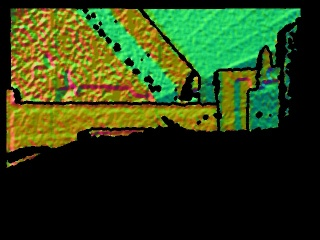station: (55, 69, 77, 97)
